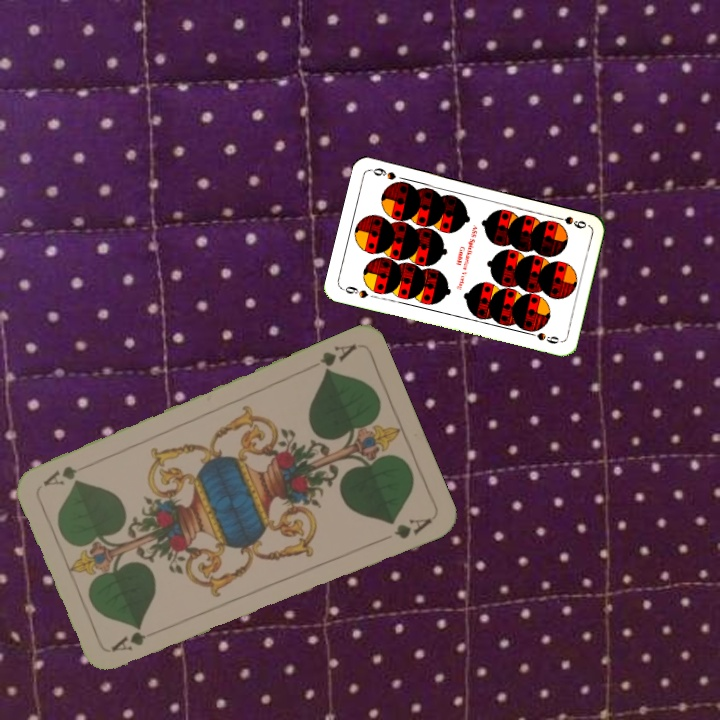GA: (315, 339, 360, 376), (107, 627, 158, 655)
S9: (550, 212, 589, 231), (338, 282, 371, 301)
